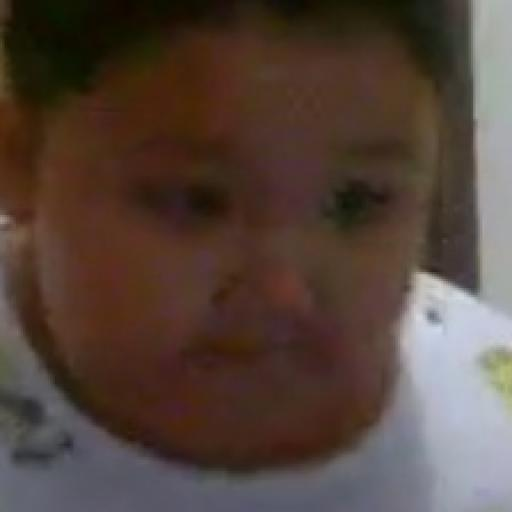Autism: (36, 10, 434, 480)
